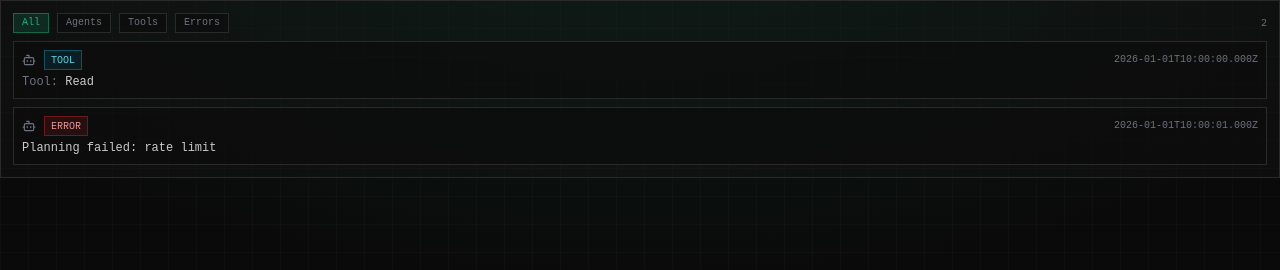
Scenario: AgentTimeline › filters entries by Errors
The width and height of the screenshot is (1280, 270).
Click the button "Errors" at (202, 23), box [175,13,229,33]
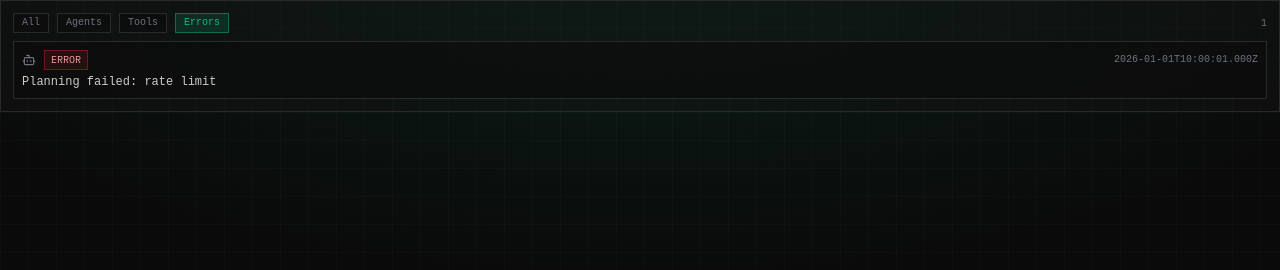
Result: the text "Planning failed: rate limit" is shown at [22,75,216,89]
Result: the text "Read" is gone
